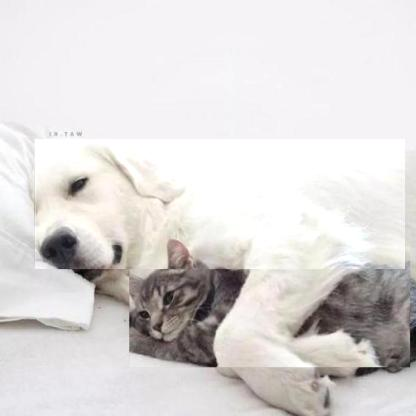cat: (130, 246, 410, 367)
dog: (34, 139, 404, 269)
